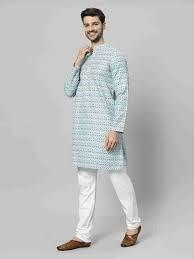Human: (59, 5, 149, 254)
